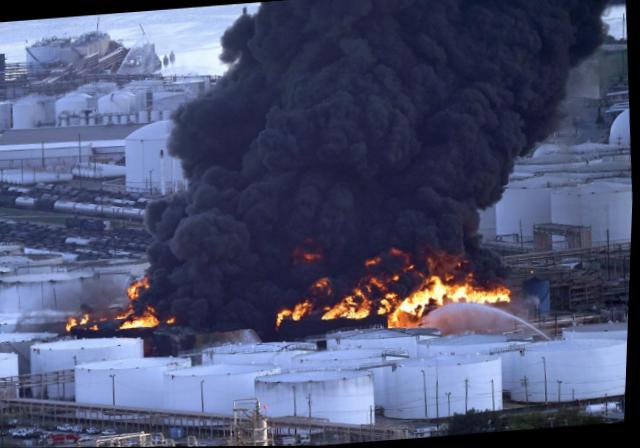fire: (318, 279, 427, 324), (427, 276, 513, 306), (117, 311, 177, 332), (273, 301, 315, 327), (64, 310, 100, 333), (125, 273, 152, 303)
smoke: (128, 0, 505, 262), (480, 0, 638, 185), (154, 252, 302, 307), (448, 238, 509, 275)
